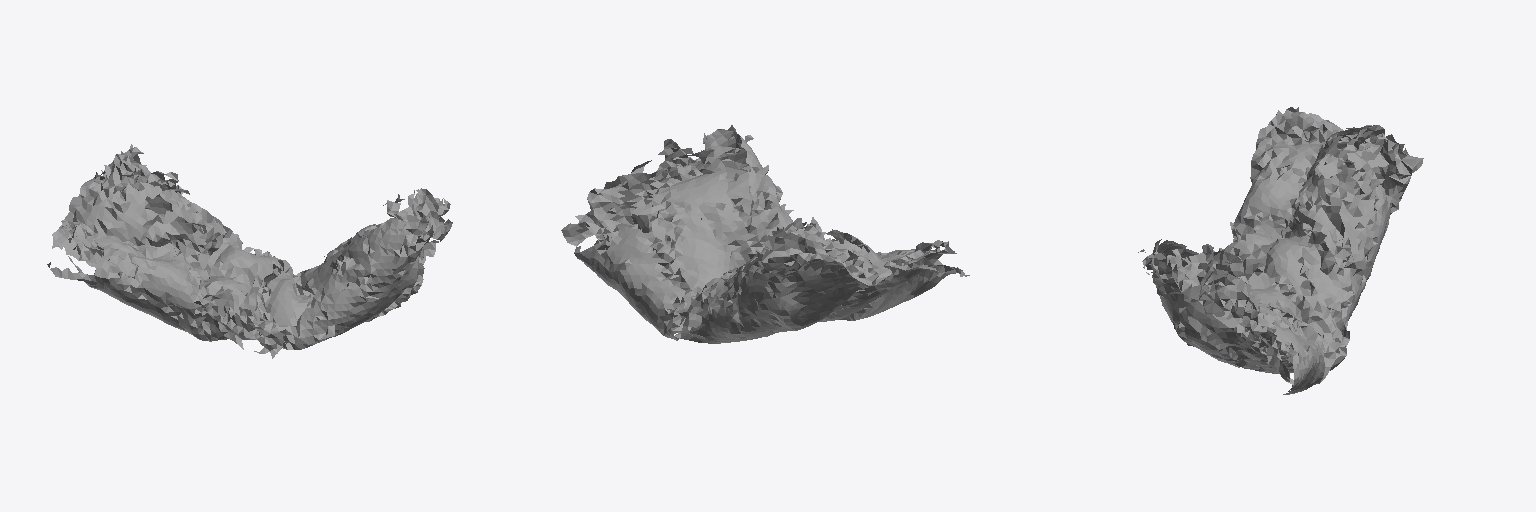
The picture shows the model from 3 angles: view 1: azimuth 30°, elevation 25°; view 2: azimuth 150°, elevation 25°; view 3: azimuth 270°, elevation 25°; orthographic projection.
Visible parts, largest first — view 1: ArtScan2; view 2: ArtScan2; view 3: ArtScan2.
Part boxes in pixels (left/top/right/bottom): ArtScan2: left=47, top=144, right=452, bottom=358; ArtScan2: left=561, top=125, right=969, bottom=343; ArtScan2: left=1138, top=107, right=1423, bottom=394.
Bounding box in the file's own units: 13.58 × 5.65 × 8.36.